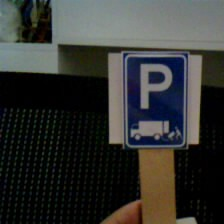load: (106, 46, 202, 154)
